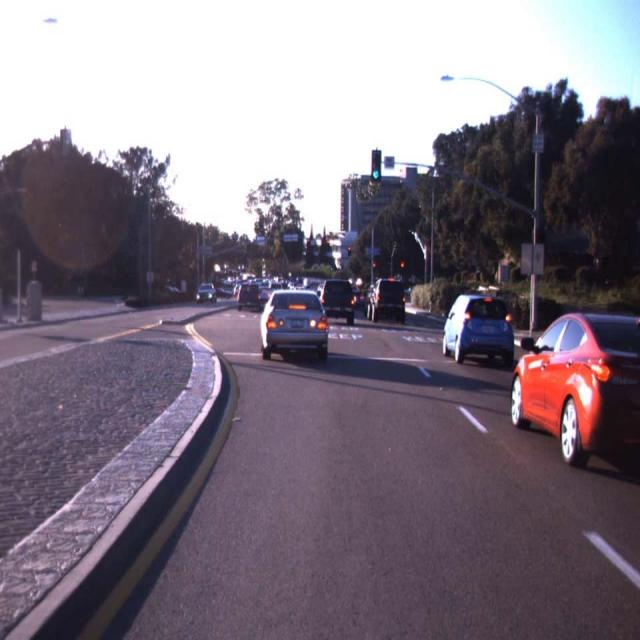yesil: (372, 150, 382, 182)
